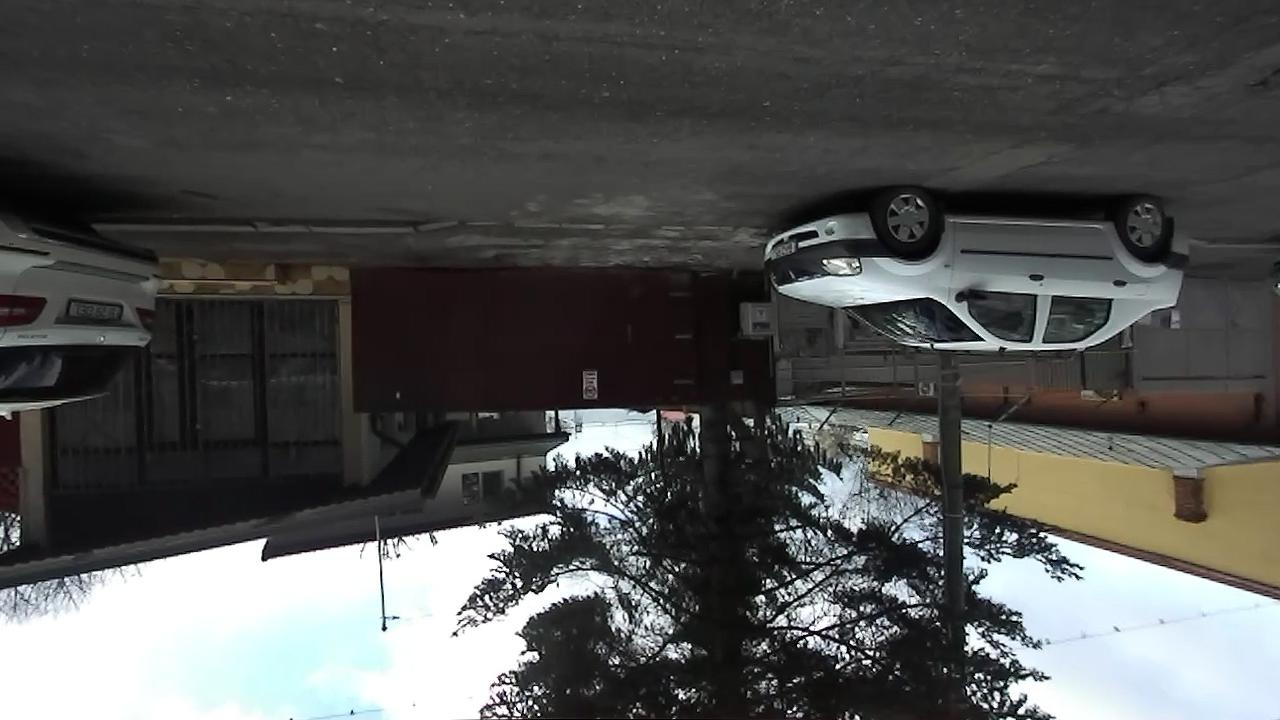pothole: (1245, 60, 1278, 95)
